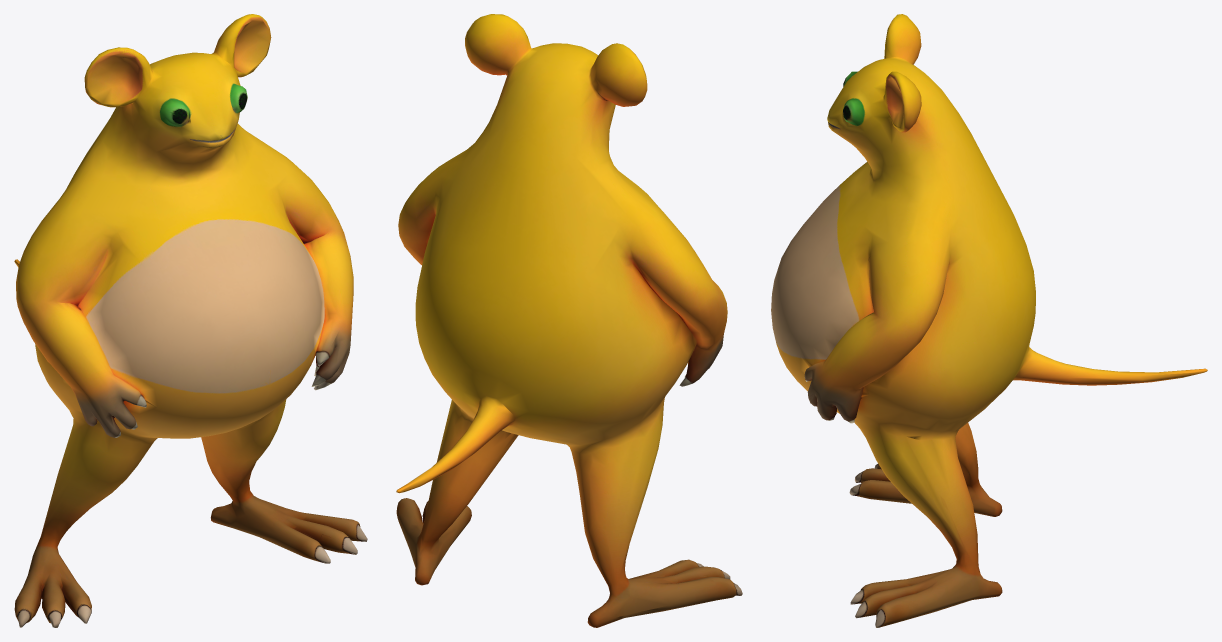
3 renders of one model, left to right at view 1: azimuth 30°, elevation 25°; view 2: azimuth 150°, elevation 25°; view 3: azimuth 270°, elevation 25°, orthographic. The views are drawn at different scales.
Parts seen in each view (by area): view 1: tripo_node_a7685a7b; view 2: tripo_node_a7685a7b; view 3: tripo_node_a7685a7b.
Part boxes in pixels (x1=…): tripo_node_a7685a7b: x1=14, y1=14, x2=367, y2=627; tripo_node_a7685a7b: x1=396, y1=14, x2=742, y2=627; tripo_node_a7685a7b: x1=771, y1=14, x2=1207, y2=627.
Size of the model in its own units: 0.6638 by 0.9998 by 0.7754.
1 material, 1 textured.
